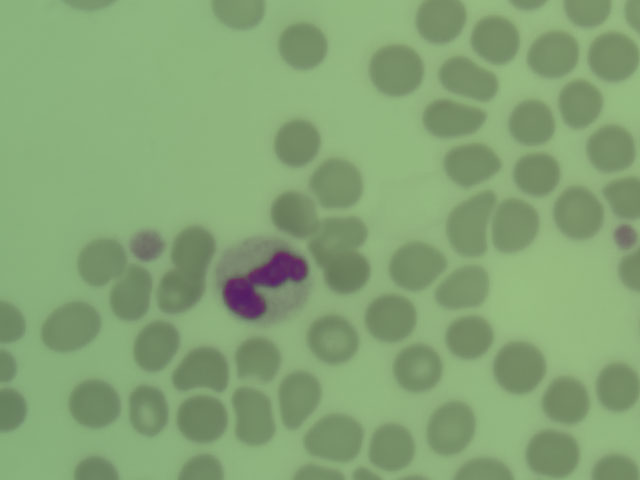RBC: (439, 188, 488, 255), (228, 383, 275, 441), (428, 394, 478, 448), (39, 308, 102, 350), (584, 33, 640, 79), (547, 332, 599, 381), (496, 337, 543, 391), (493, 200, 536, 258), (372, 46, 422, 95), (439, 143, 494, 183), (423, 98, 479, 137), (523, 30, 579, 69), (471, 16, 527, 55), (412, 1, 468, 39), (508, 101, 553, 146), (531, 427, 576, 472), (370, 425, 415, 470), (595, 365, 640, 410), (545, 374, 590, 419), (396, 339, 441, 384), (445, 311, 490, 356), (555, 184, 600, 229), (595, 129, 640, 174), (319, 246, 365, 290), (168, 225, 212, 271), (108, 271, 151, 318), (205, 1, 270, 32), (74, 242, 121, 283), (441, 263, 488, 304), (390, 245, 437, 286), (308, 318, 355, 359), (365, 297, 412, 338), (310, 415, 357, 456), (178, 398, 225, 439), (237, 339, 284, 380), (173, 345, 220, 386), (280, 23, 327, 64), (132, 324, 179, 365), (72, 381, 119, 422), (312, 216, 359, 257), (273, 194, 320, 235), (314, 160, 361, 201), (271, 121, 318, 162), (159, 267, 206, 308), (127, 385, 163, 438), (282, 366, 316, 421), (557, 79, 594, 127), (513, 153, 558, 192), (606, 170, 640, 219), (459, 454, 521, 480), (1, 383, 27, 435), (592, 451, 637, 480), (568, 1, 613, 29), (181, 453, 223, 480), (616, 253, 640, 298), (75, 453, 113, 480), (1, 300, 24, 340)
WBC: (220, 244, 303, 323)
